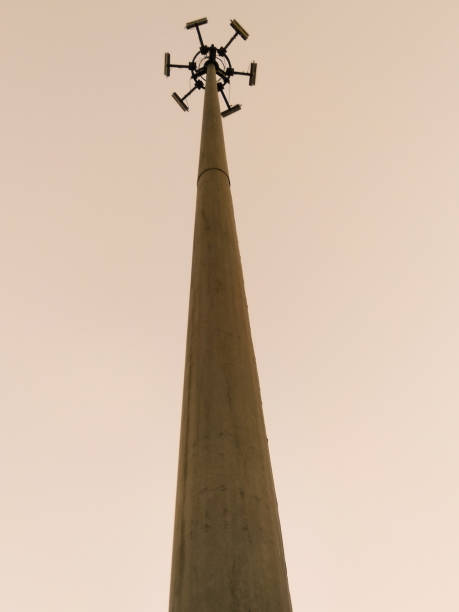light_pole: (164, 66, 293, 612)
